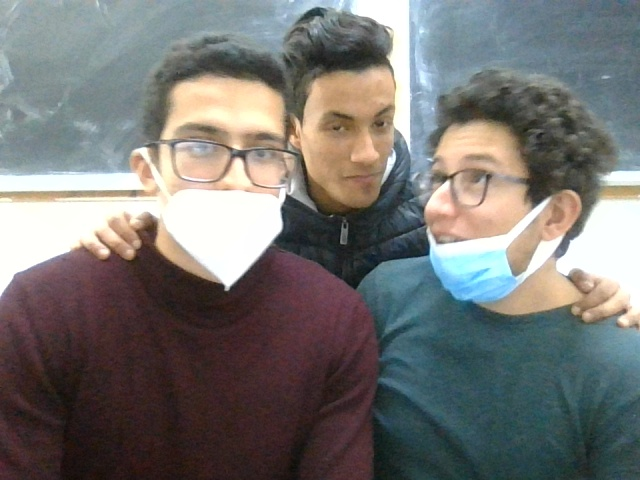mask_weared_incorrect: (425, 63, 589, 302), (138, 46, 291, 283)
without_mask: (286, 8, 415, 210)
